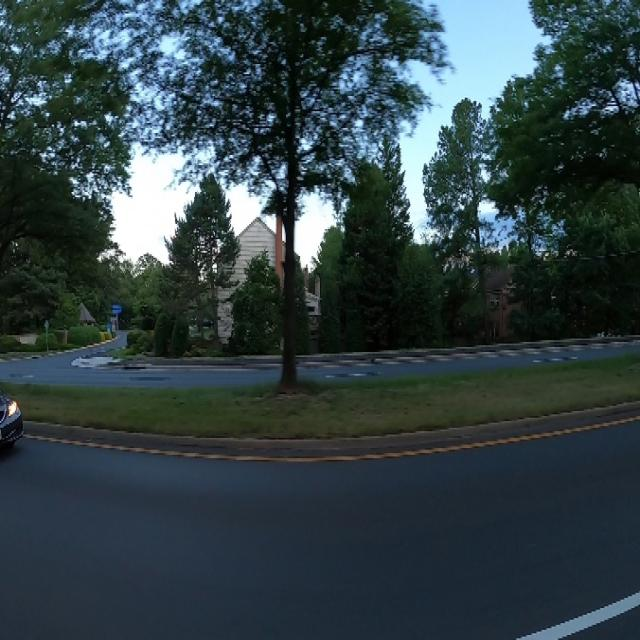cars: (0, 378, 22, 455)
